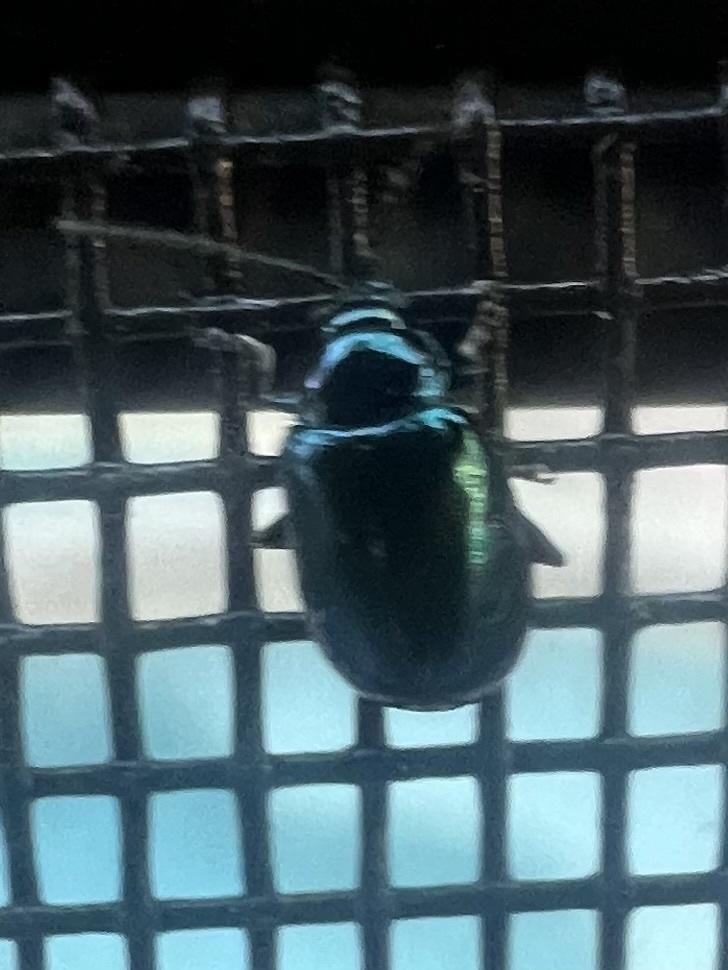flea_beetle: (23, 95, 718, 806)
